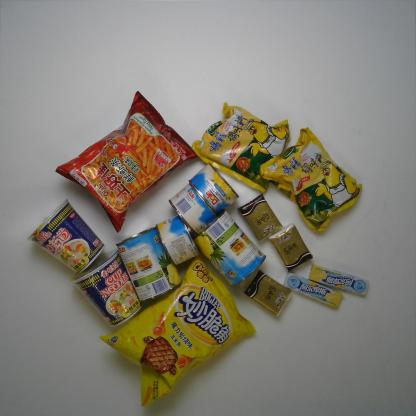Candy: (283, 271, 342, 309), (308, 264, 370, 297)
Canned Food: (192, 208, 267, 287), (115, 225, 182, 303), (186, 162, 239, 217), (168, 182, 218, 236), (155, 212, 200, 267)
Instant Noodles: (25, 198, 105, 276), (70, 248, 142, 328)
Puffed Food: (99, 254, 256, 408), (54, 89, 198, 233)
Seasoner: (259, 127, 363, 233), (191, 101, 292, 195)
Tissue: (243, 270, 292, 316), (268, 223, 313, 272), (238, 194, 283, 242)
